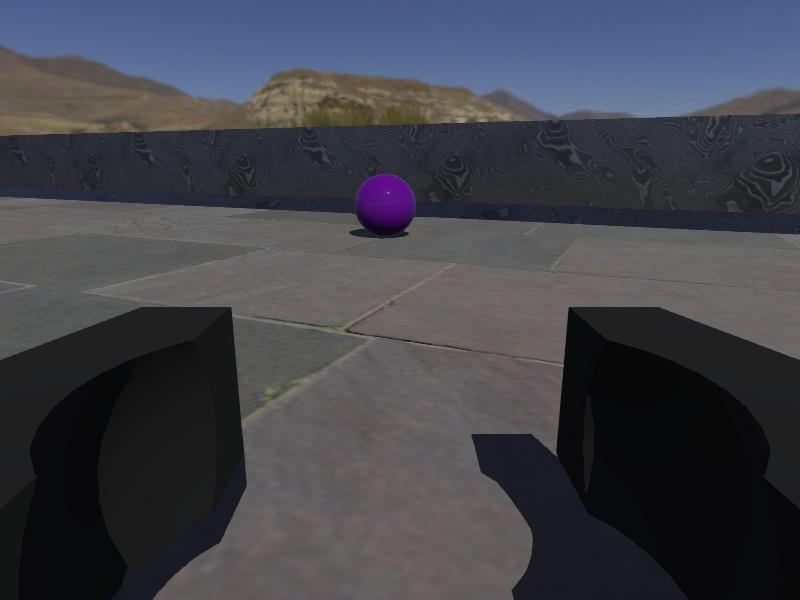violet ball: (353, 172, 418, 238)
